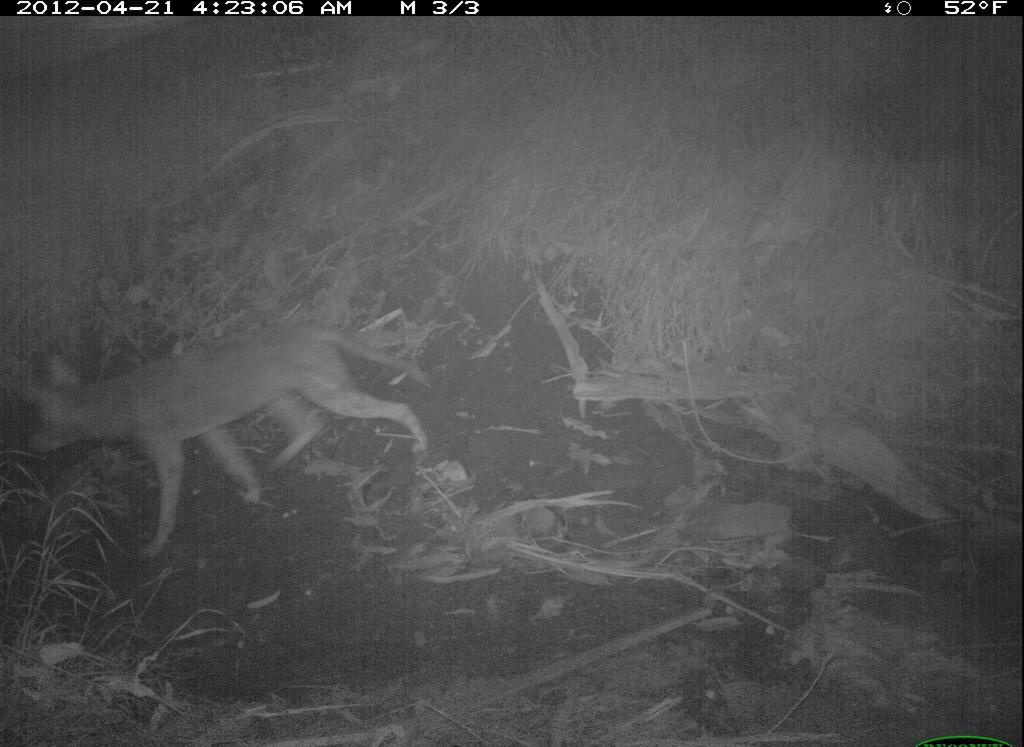coyote: (22, 315, 446, 560)
